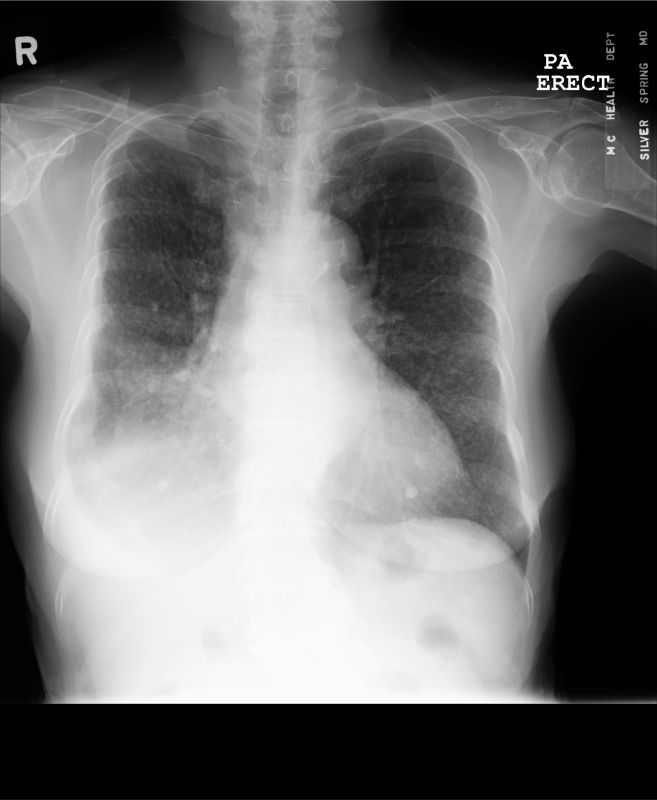Pleural Effusion: (37, 418, 192, 618)
